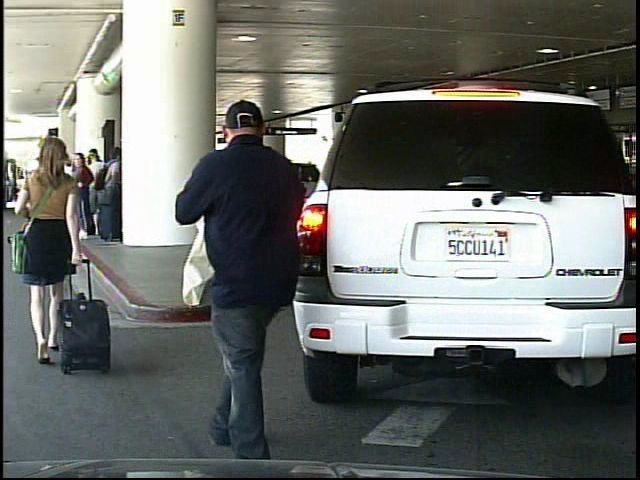person: (180, 94, 341, 461), (5, 128, 92, 383)
